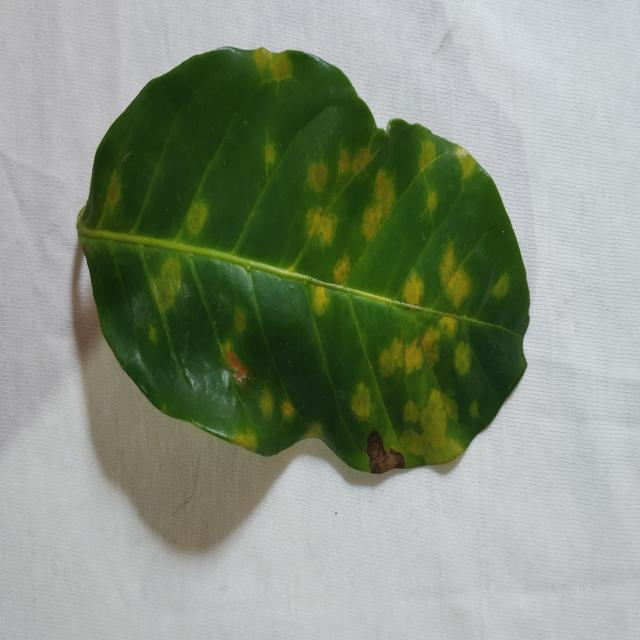Enfermedad-Roya: (75, 48, 531, 479)
